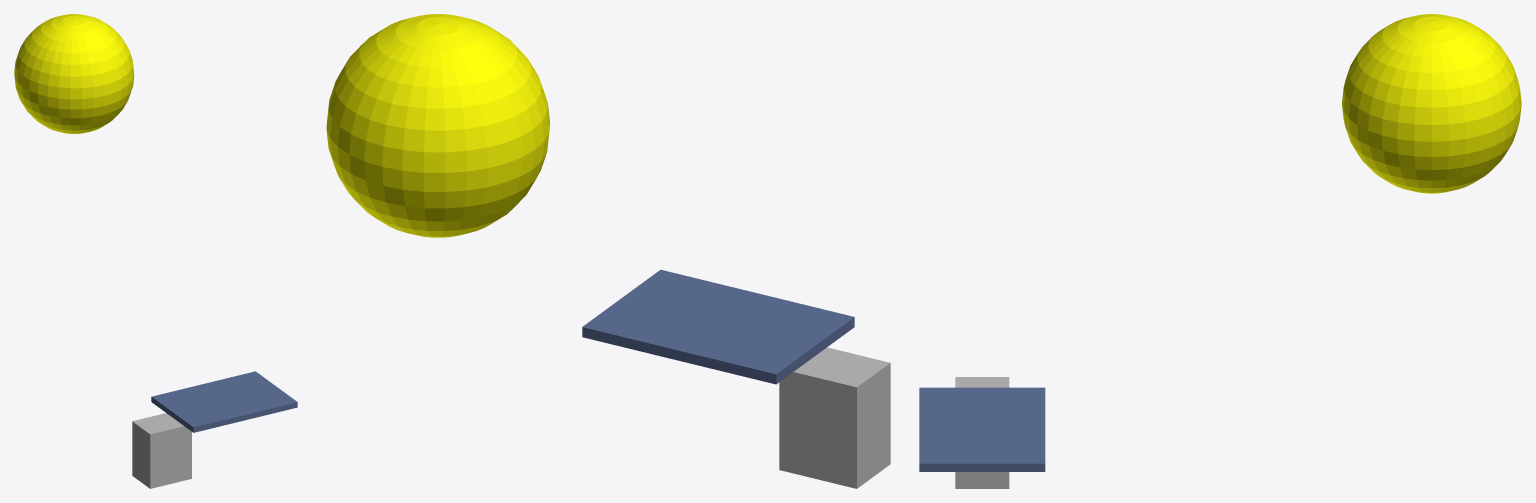
The model's file is phys_solaire_charge_v1.glb.
The picture shows the model from 3 angles, left to right: view 1: azimuth 30°, elevation 25°; view 2: azimuth 150°, elevation 25°; view 3: azimuth 270°, elevation 25°; orthographic projection. The views are drawn at different scales.
Visible parts, largest first — view 1: sun, solar_panel, battery; view 2: sun, solar_panel, battery; view 3: sun, solar_panel, battery.
Boxes of the visible parts, x1,y1,x2,y2 form: sun: [14, 14, 134, 133]; solar_panel: [151, 371, 297, 432]; battery: [132, 413, 191, 488]; sun: [326, 14, 549, 237]; solar_panel: [582, 269, 854, 384]; battery: [779, 347, 890, 488]; sun: [1342, 14, 1521, 193]; solar_panel: [919, 387, 1045, 471]; battery: [955, 377, 1009, 488].
Size of what is drawn, in the model's own units: 2.6 by 6.1 by 6.7.
